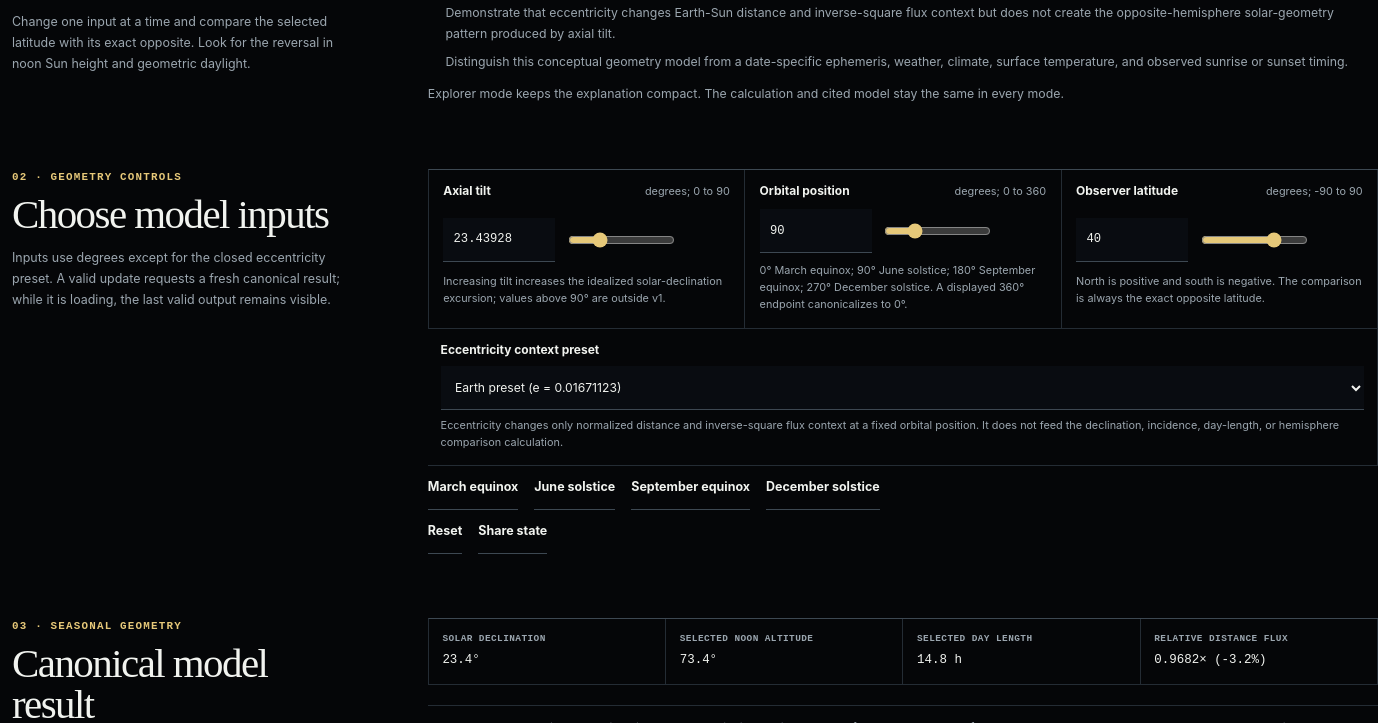
it: SeasonsSimulatorView › performs a validated GET when a closed eccentricity preset changes
(page scrolled)
Step 1. Select "Circular orbit (e = 0.0)" in the dropdown labelled "Eccentricity context preset" → x=902, y=388, box [441,366,1364,410]
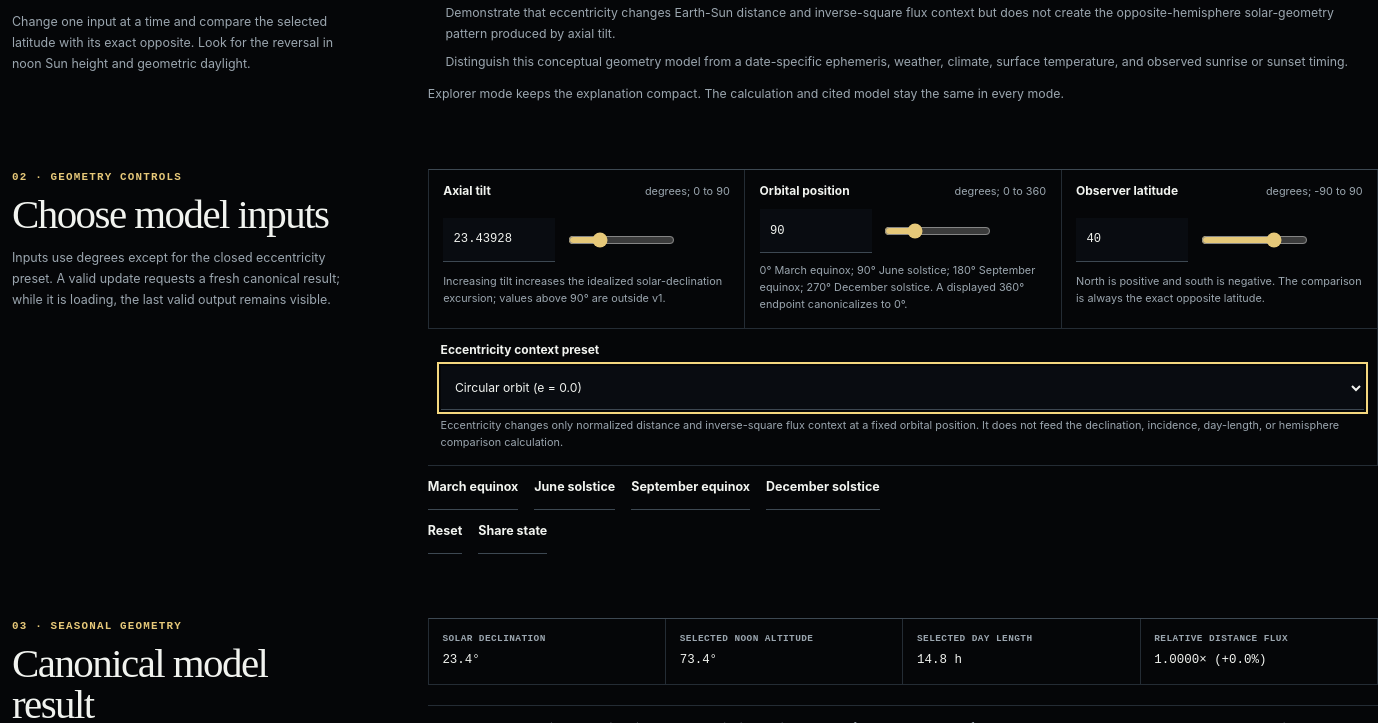
expect the text "1.0000× (+0.0%)" is shown: met, box [1154,653,1267,667]
